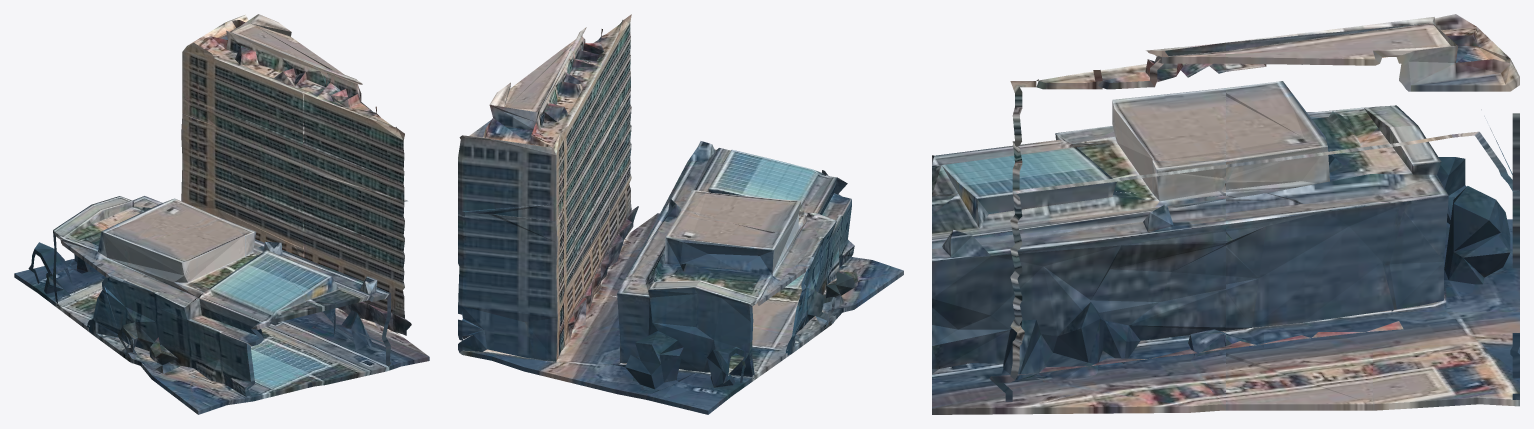
The model's file is chunk_5_-5.glb.
3 renders of one model, left to right at view 1: azimuth 30°, elevation 25°; view 2: azimuth 150°, elevation 25°; view 3: azimuth 270°, elevation 25°, orthographic. The views are drawn at different scales.
Visible parts, largest first — view 1: hero-chunk; view 2: hero-chunk; view 3: hero-chunk.
Boxes of the visible parts, x1,y1,x2,y2 form: hero-chunk: (14,14,429,414); hero-chunk: (458,14,903,414); hero-chunk: (932,14,1519,414).
Bounding box in the file's own units: 56.35 × 52.2 × 76.33.
3 materials, 3 textured.
